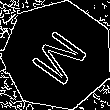M_SE: (23, 22, 92, 89)
